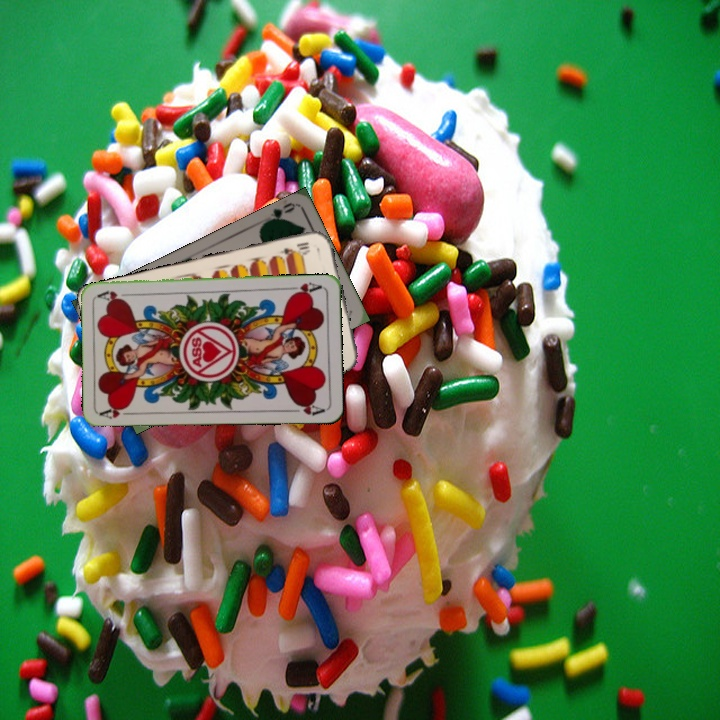E10: (276, 238, 313, 260)
GO: (260, 198, 297, 226)
HA: (284, 278, 325, 298), (97, 402, 138, 422)
